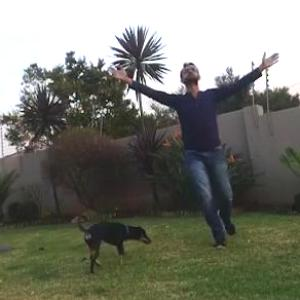takeoff: (130, 60, 278, 230)
